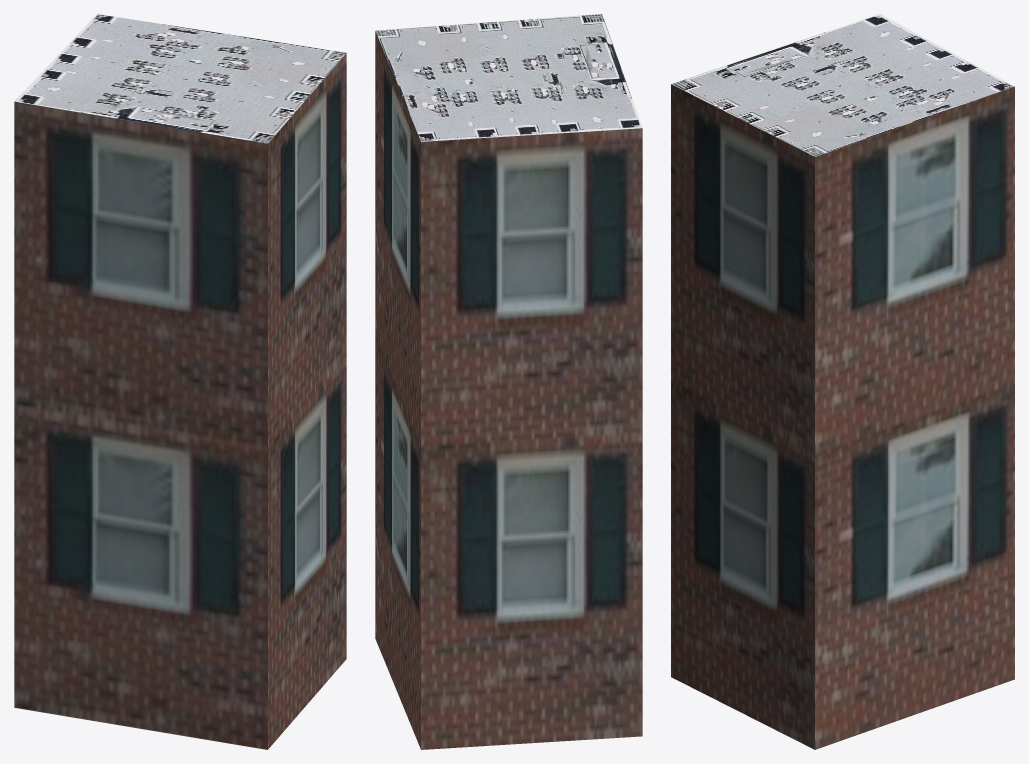
File: ResTex__15.fbx
The picture shows the model from 3 angles, left to right: view 1: azimuth 30°, elevation 25°; view 2: azimuth 150°, elevation 25°; view 3: azimuth 270°, elevation 25°; orthographic projection. The views are drawn at different scales.
Visible parts, largest first — view 1: CityEngineMaterial_14_m, CityEngineMaterial_m; view 2: CityEngineMaterial_14_m, CityEngineMaterial_m; view 3: CityEngineMaterial_14_m, CityEngineMaterial_m.
Boxes of the visible parts, bbox=[...] form: CityEngineMaterial_14_m: bbox=[14, 53, 346, 749]; CityEngineMaterial_m: bbox=[14, 14, 346, 143]; CityEngineMaterial_14_m: bbox=[375, 31, 642, 749]; CityEngineMaterial_m: bbox=[375, 14, 642, 141]; CityEngineMaterial_14_m: bbox=[671, 84, 1014, 749]; CityEngineMaterial_m: bbox=[671, 14, 1014, 156].
Size of the model in its own units: 3.1 by 6 by 3.15.
2 materials, 2 textured.
